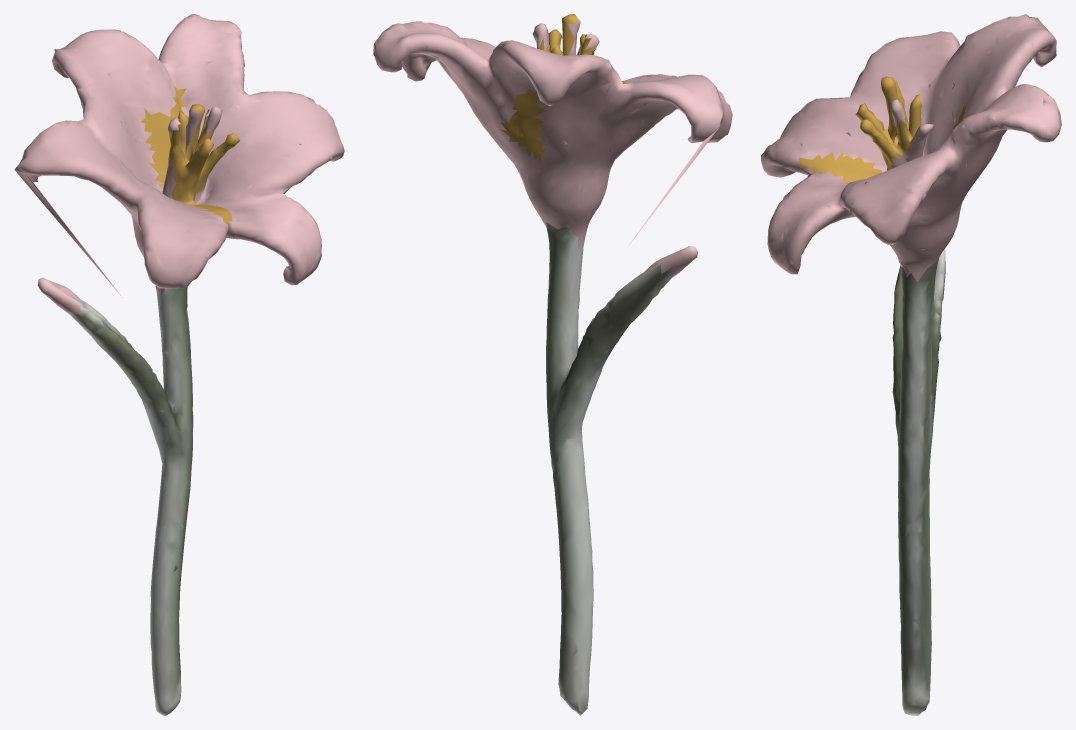
Rendered from lily-ai.glb.
3 views of the same model, side by side, from view 1: azimuth 30°, elevation 25°; view 2: azimuth 150°, elevation 25°; view 3: azimuth 270°, elevation 25° (orthographic). The views are drawn at different scales.
Visible parts, largest first — view 1: petal, stem, stamen; view 2: petal, stem, stamen; view 3: petal, stem, stamen.
Boxes of the visible parts, left/top/right/bottom form: petal: left=14, top=14, right=344, bottom=316; stem: left=69, top=286, right=193, bottom=715; stamen: left=140, top=86, right=239, bottom=227; petal: left=373, top=17, right=732, bottom=279; stem: left=546, top=222, right=675, bottom=715; stamen: left=500, top=14, right=626, bottom=164; petal: left=761, top=14, right=1061, bottom=281; stem: left=892, top=248, right=945, bottom=715; stamen: left=799, top=76, right=983, bottom=182.
Size of the model in its own units: 0.9721 by 1.96 by 0.7839.
